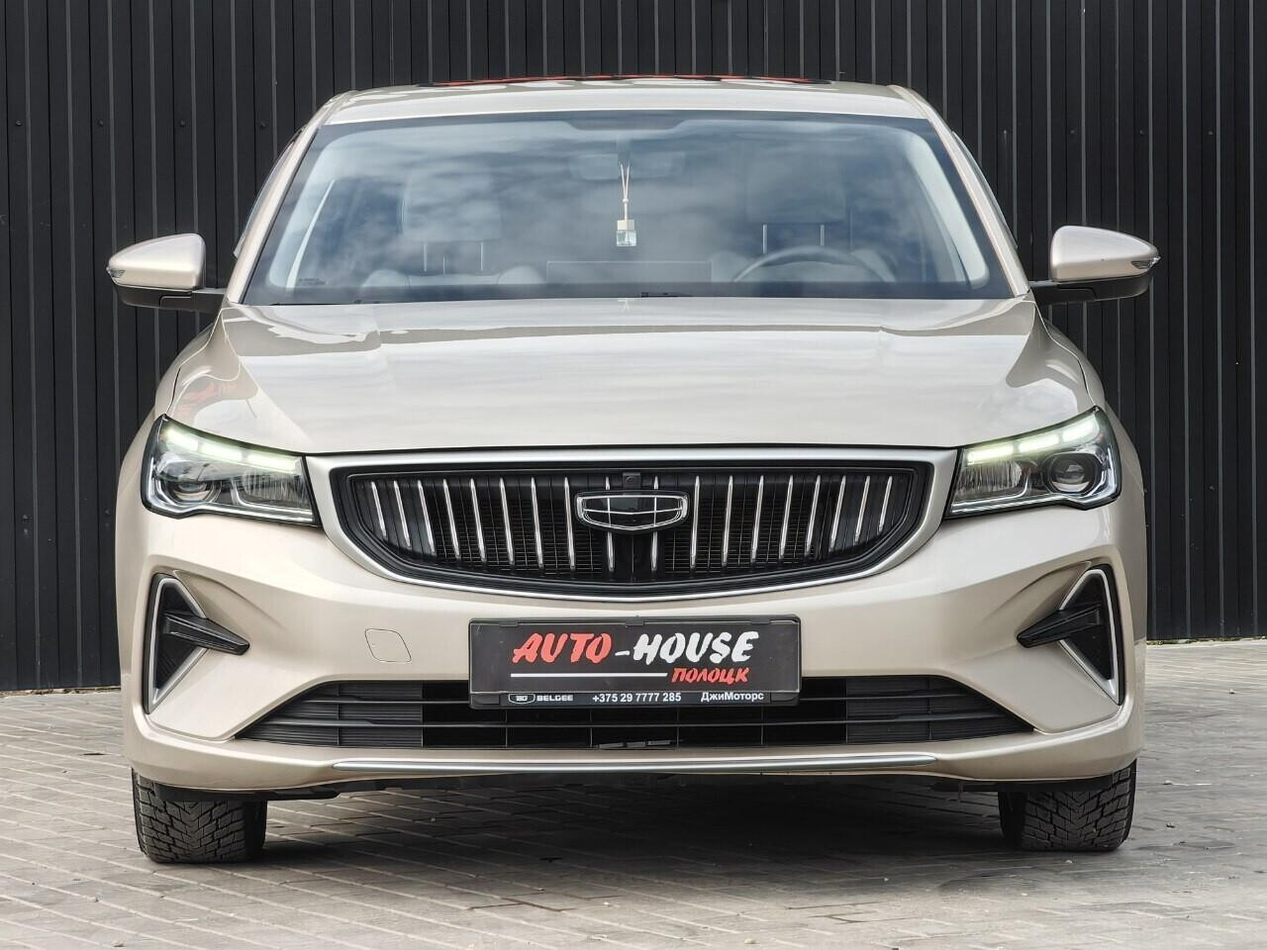Emgrand_2021: (83, 62, 1182, 873)
